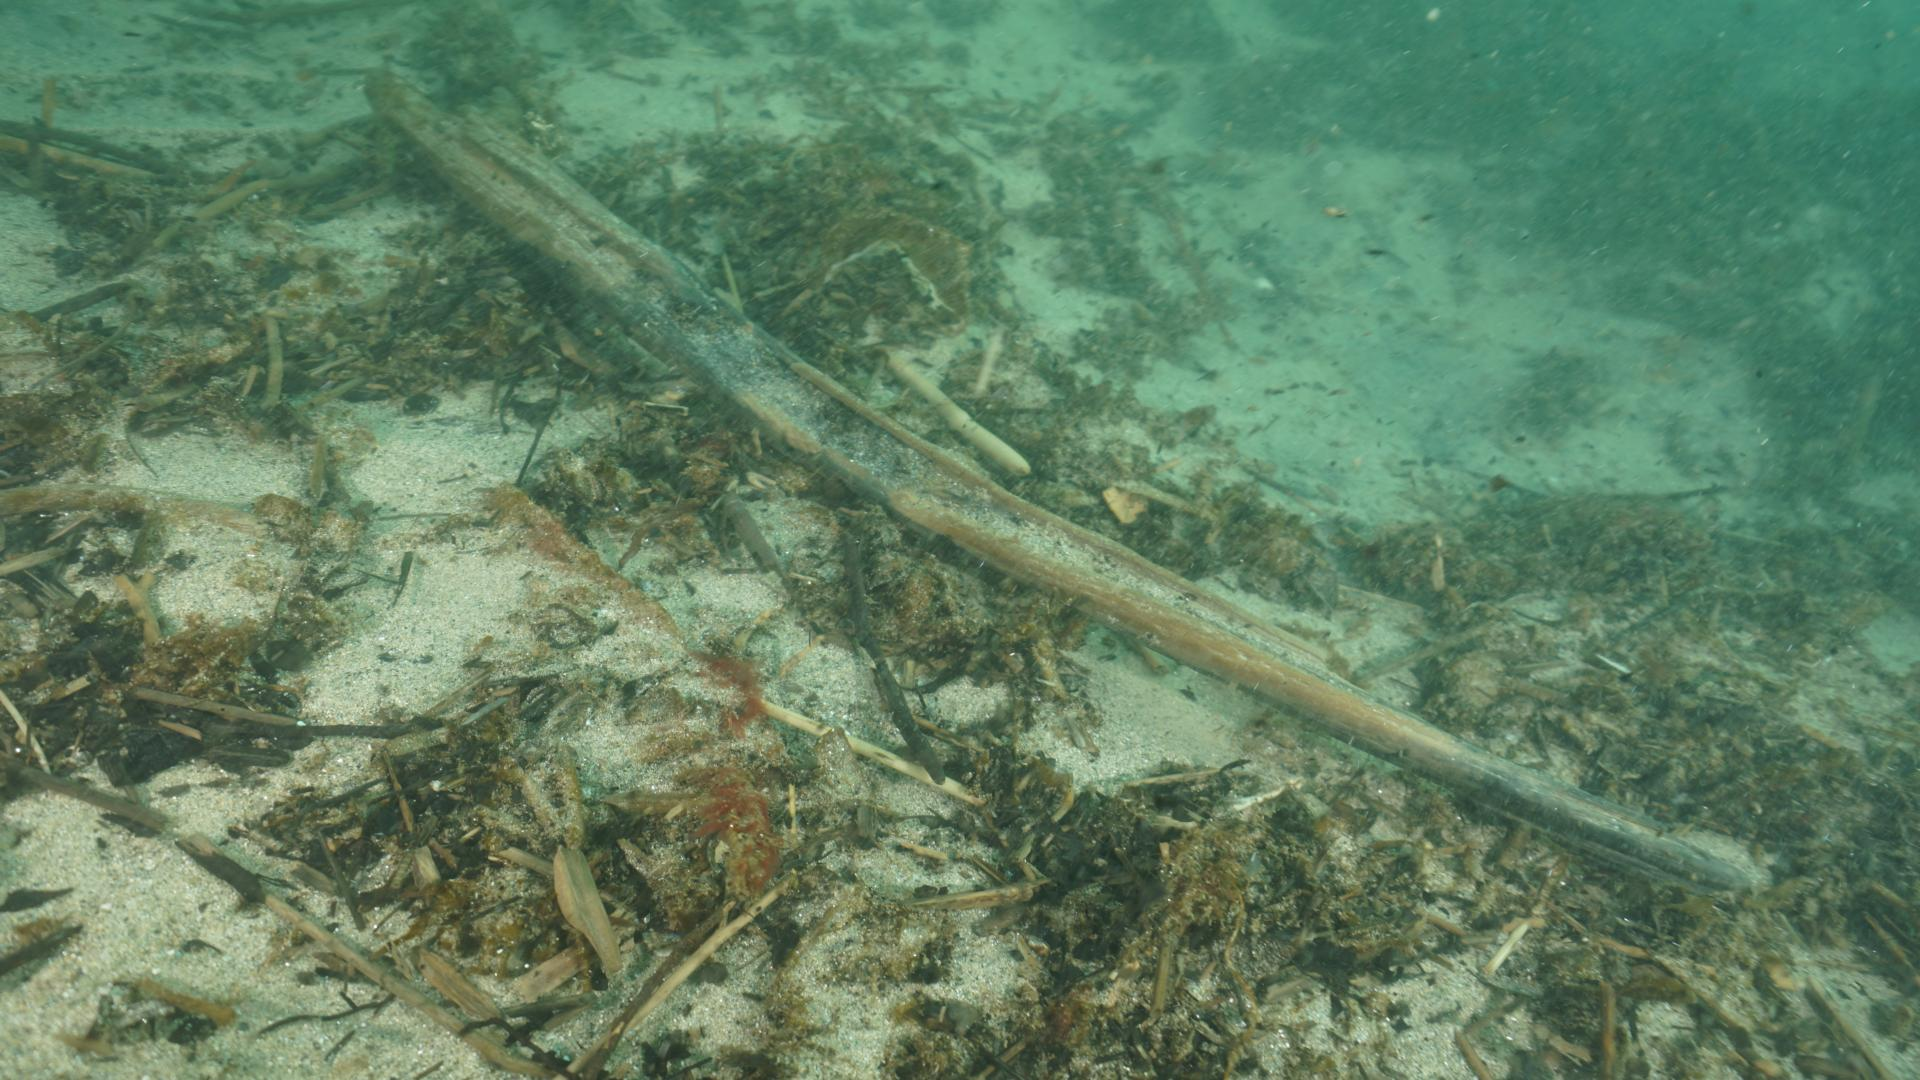wood: (360, 61, 1778, 906)
